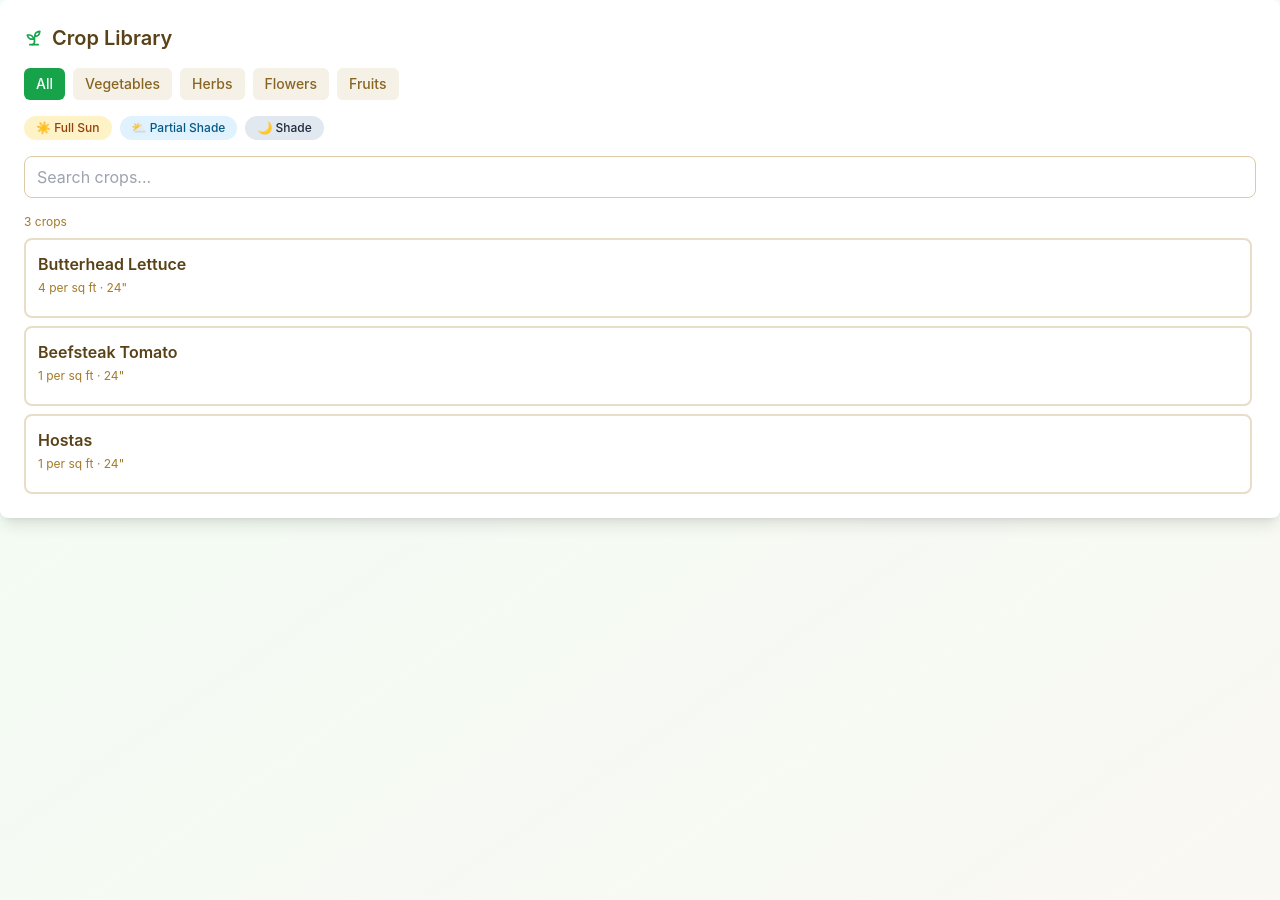
Test: CropLibrary › Sun Filter Pills (TODO-028) › shows only partial shade crops when "Partial Shade" pill is clicked
This screenshot has width=1280, height=900.
Click the button "⛅ Partial Shade". click: x=178, y=128
box: left=120, top=116, right=237, bottom=140
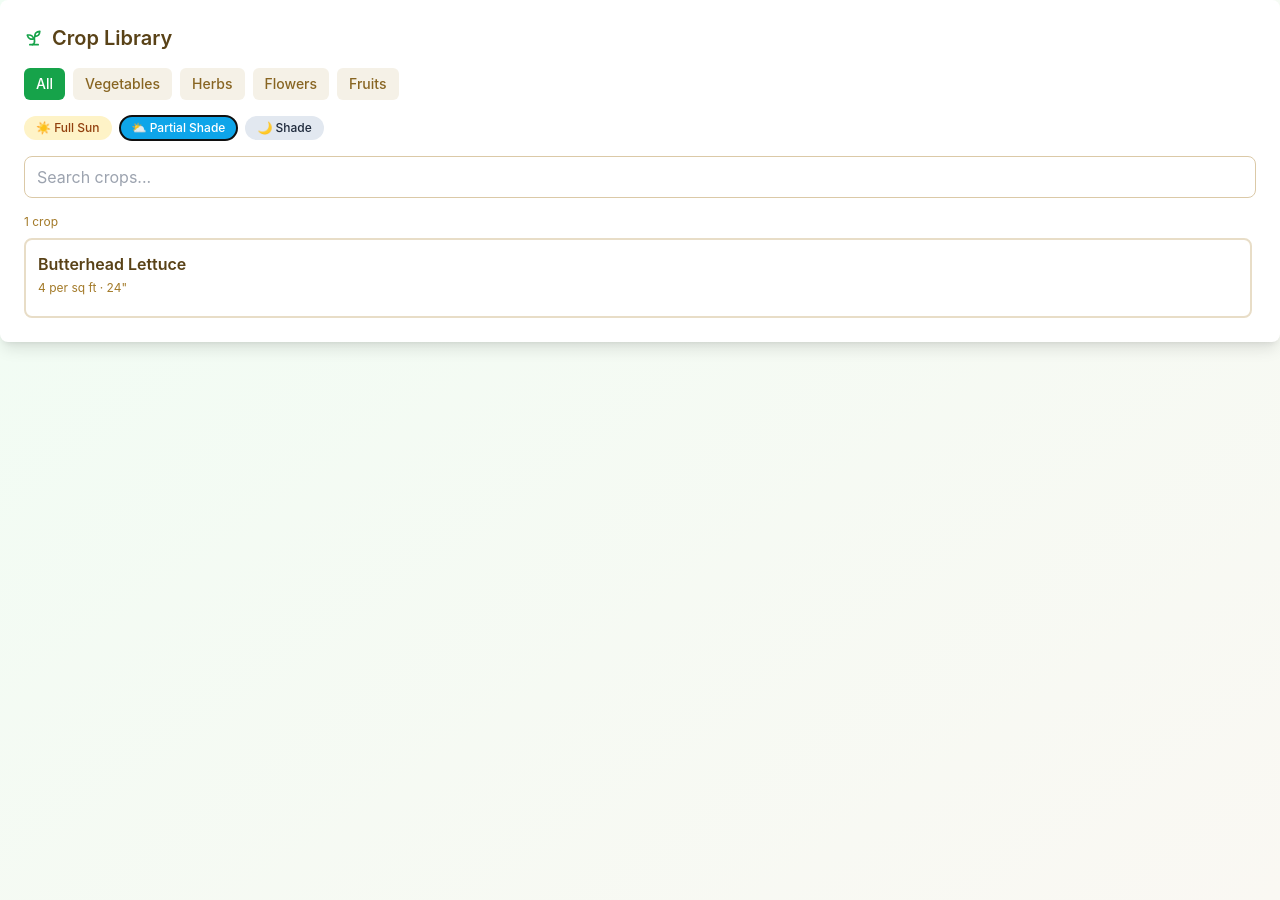
Expected: the text "Butterhead Lettuce" is shown, left=38, top=254, right=186, bottom=274
Now the button "Beefsteak Tomato" is gone
Now the button "Hostas" is gone
